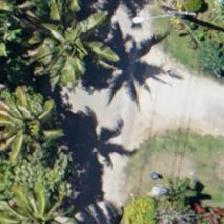coconut_tree: (24, 0, 114, 82), (0, 78, 67, 168), (0, 153, 67, 223)
